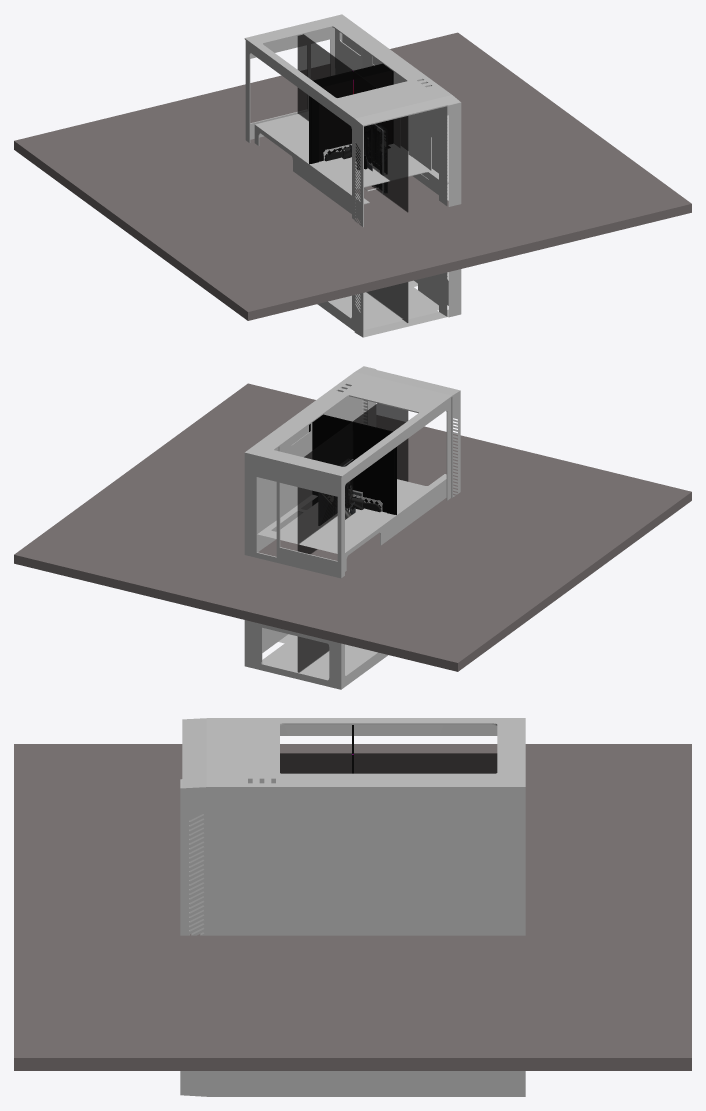
File: custom_gaming_pc.draco.glb
The picture shows the model from 3 angles, top to bottom: view 1: azimuth 30°, elevation 25°; view 2: azimuth 150°, elevation 25°; view 3: azimuth 270°, elevation 25°; orthographic projection. The views are drawn at different scales.
Visible parts, largest first — view 1: Cube_12, Cube.007_20, Cube.154_380, Cube.002_15, Cube.005_18, Cube.004_17, Cube.050_192, Cube.009_24; view 2: Cube_12, Cube.007_20, Cube.002_15, Cube.154_380, Cube.005_18, Cube.050_192, Cube.009_24; view 3: Cube_12, Cube.007_20, Cube.154_380.
Part boxes in pixels (x1,y1,x2,y2): Cube_12: (14, 32, 691, 320); Cube.007_20: (244, 14, 461, 337); Cube.154_380: (297, 34, 408, 322); Cube.002_15: (254, 111, 448, 220); Cube.005_18: (309, 63, 393, 164); Cube.004_17: (319, 70, 391, 161); Cube.050_192: (311, 64, 391, 163); Cube.009_24: (356, 123, 387, 192); Cube_12: (14, 383, 691, 671); Cube.007_20: (244, 366, 460, 689); Cube.002_15: (257, 474, 446, 571); Cube.154_380: (297, 403, 408, 672); Cube.005_18: (309, 414, 396, 514); Cube.050_192: (314, 415, 394, 514); Cube.009_24: (318, 459, 351, 525); Cube_12: (14, 744, 691, 1070); Cube.007_20: (180, 718, 525, 1096); Cube.154_380: (280, 753, 497, 773).
Size of the model in its own units: 334211 by 153799 by 305140.
Materials: 79 (17 with a texture image).
